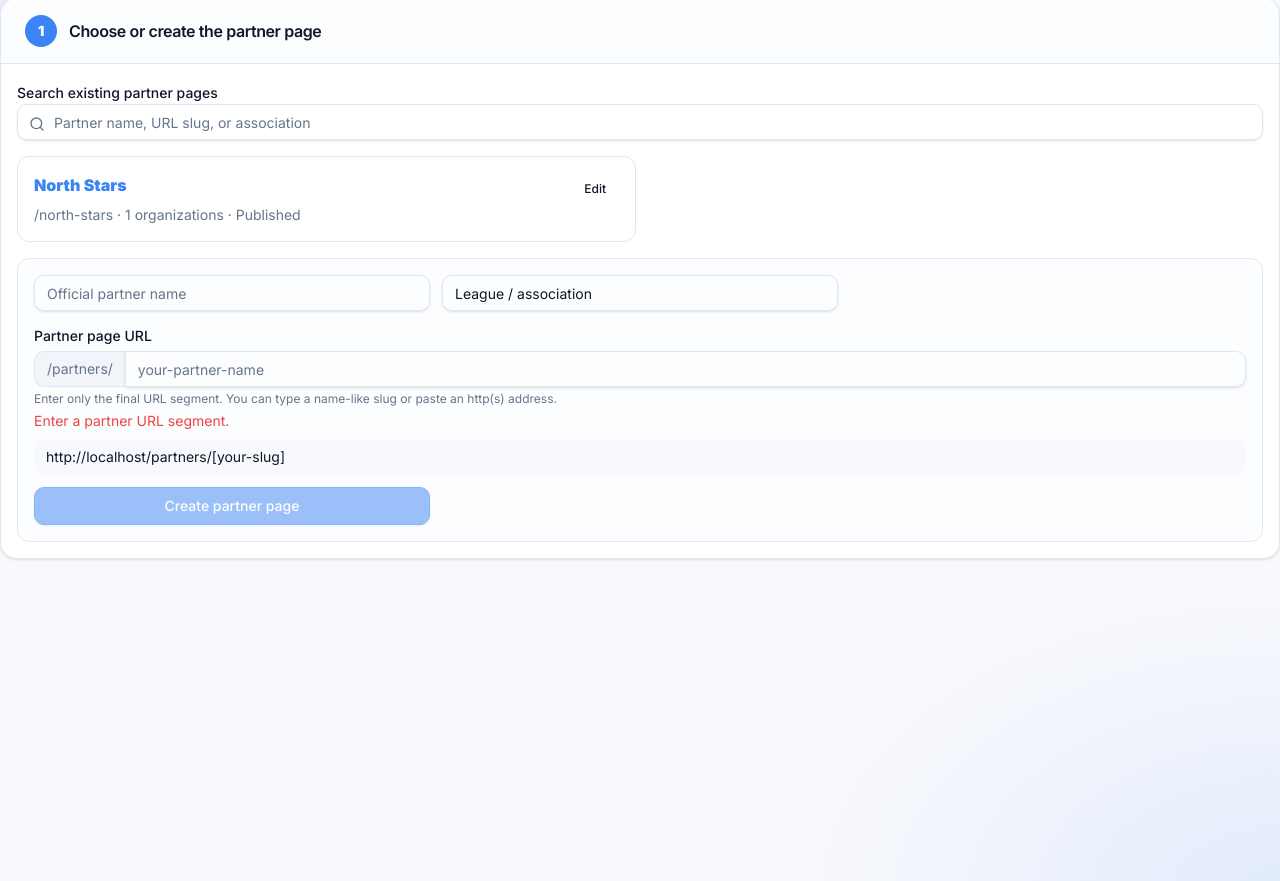
Test: AdminPartnerLanding organization branding › extracts colors from an uploaded logo and allows manual adjustment
Later steps or results of the test are not shown.
What coordinates should you click on to do the following:
click the button with aria-label "Edit North Stars"
I would click on:
 (595, 189)
Its box is [571,173,619,205].
(page scrolled)
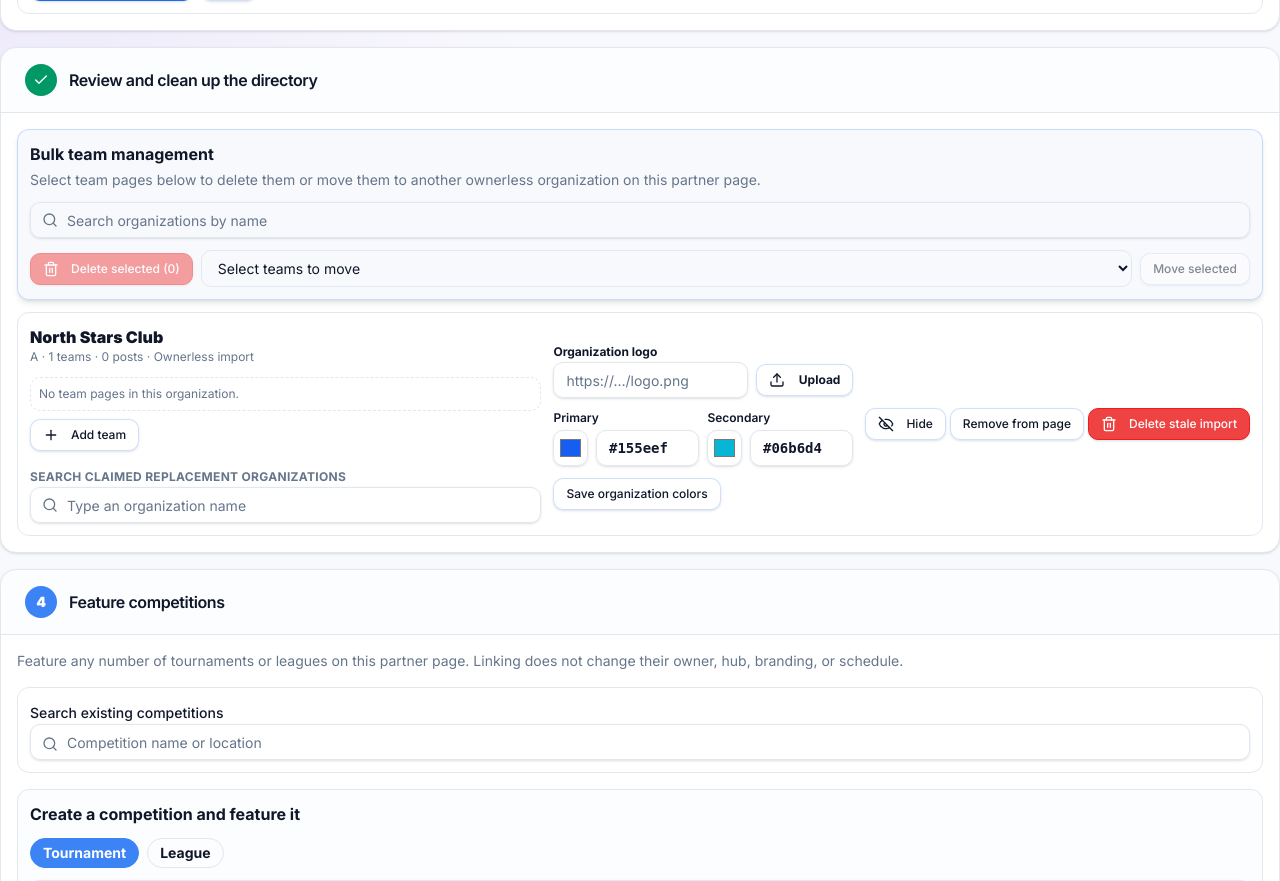
expect the element with test id "member-brand-colors-membership-1" is shown: met, box [553,410,853,466]
